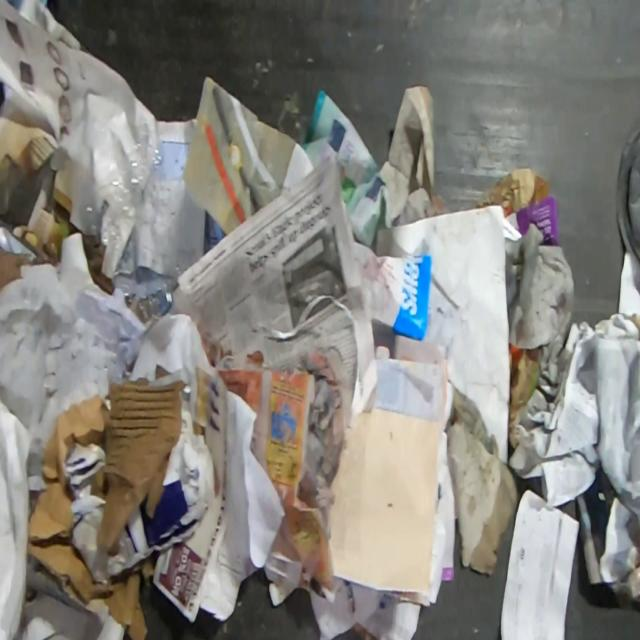cardboard: (28, 391, 157, 640), (65, 409, 217, 583), (91, 376, 187, 555)
rigid_plastic: (616, 114, 640, 270)
soft_plastic: (77, 116, 186, 322)
